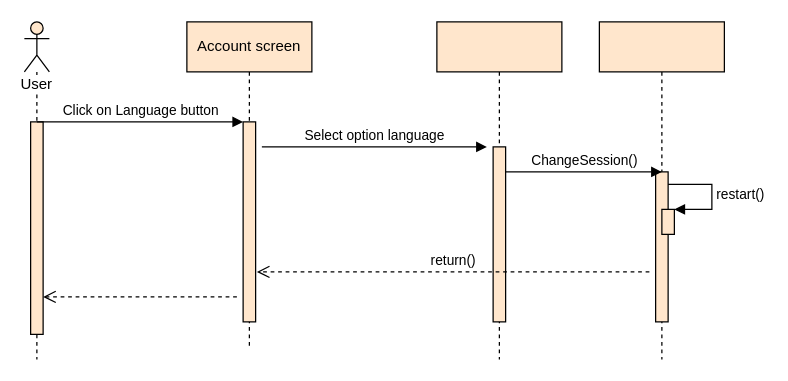
The diagram is 788 pixels wide and 381 high, and some of its shapes have lost their labels. The box of each missing label's shape, as (x1, y1, x2, y2) in pixels:
Application: (598, 21, 724, 359)
Settin tab screen: (436, 21, 562, 359)
